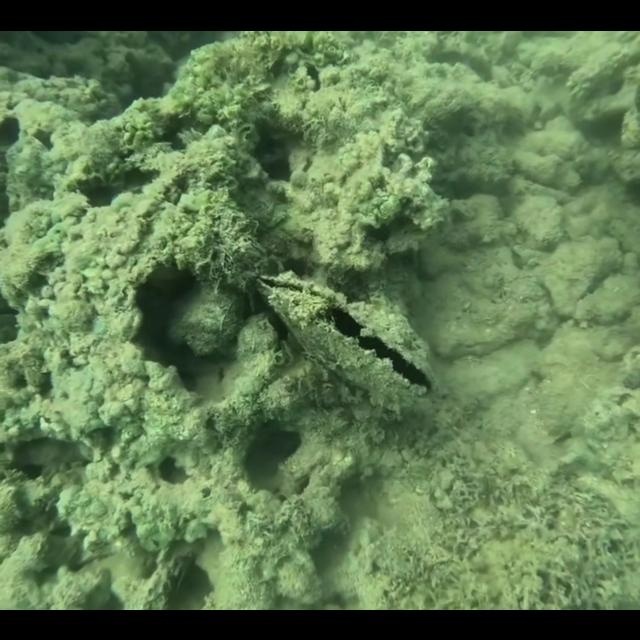Oyster-Open: (256, 268, 438, 412)
